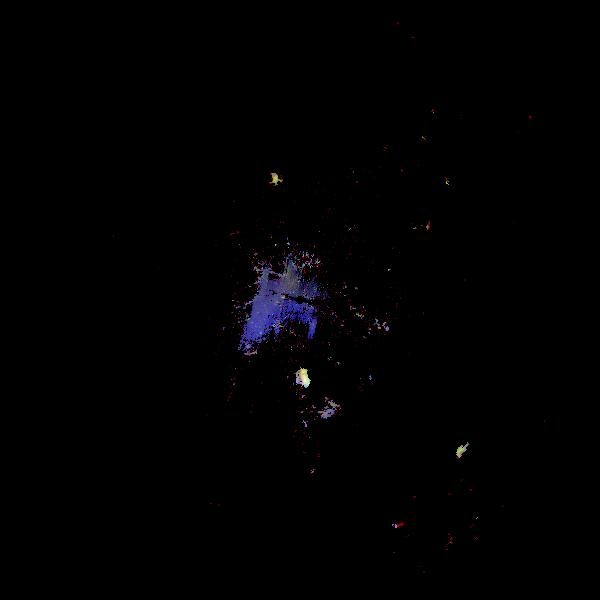roost: (274, 361, 313, 400), (456, 444, 480, 468), (261, 171, 279, 189)
